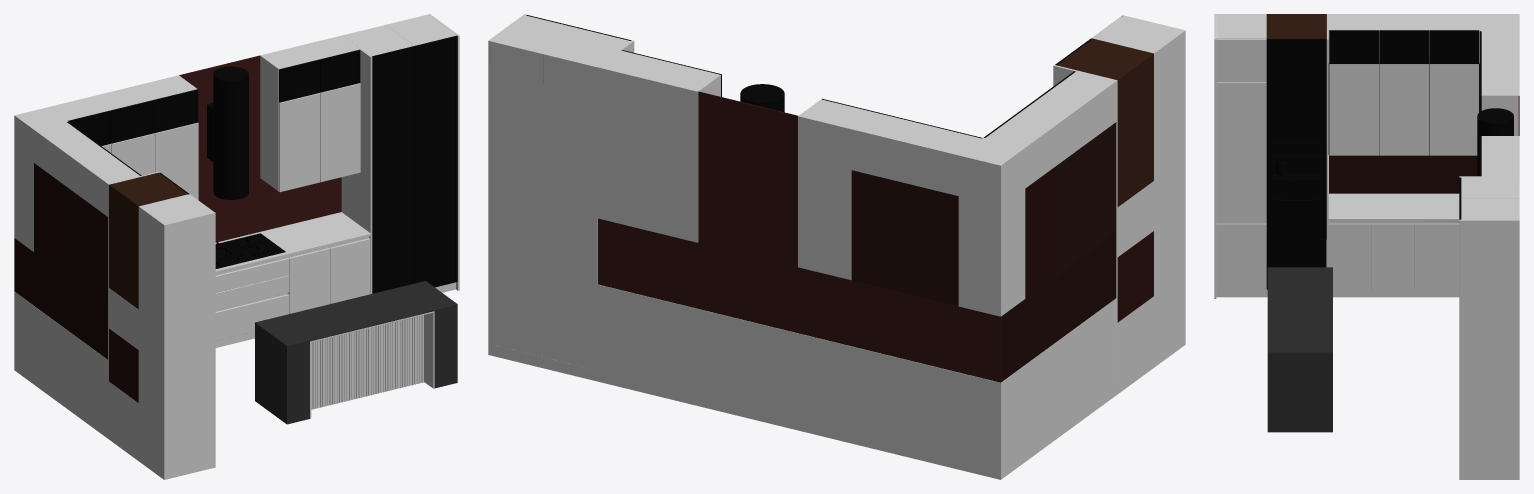
File: kitchen.gltf
3 views of the same model, side by side, from view 1: azimuth 30°, elevation 25°; view 2: azimuth 150°, elevation 25°; view 3: azimuth 270°, elevation 25° (orthographic). The views are drawn at different scales.
Parts seen in each view (by area): view 1: Box034, Box075, Box046, Box049, Box036, Box074, hood, Box037, Box021, Box026, Box095, Box094 (+39 smaller); view 2: Box036, Box048, Box045, Box015, Box013, Box007, Box008, Box010, Box037, Box009, Box019, Box021 (+27 smaller); view 3: Box043, Box075, Box089, Box042, Box037, Box098, Box097, Box096, Box011, Box088, oven door, Box085 (+24 smaller).
Boxes of the visible parts, left/top/right/bottom form: Box034: left=163, top=212, right=215, bottom=479; Box075: left=255, top=281, right=457, bottom=424; Box046: left=414, top=35, right=457, bottom=287; Box049: left=372, top=46, right=414, bottom=293; Box036: left=14, top=55, right=341, bottom=291; Box074: left=311, top=315, right=423, bottom=409; hood: left=207, top=66, right=248, bottom=199; Box037: left=15, top=238, right=107, bottom=359; Box021: left=109, top=172, right=187, bottom=309; Box026: left=58, top=181, right=107, bottom=305; Box095: left=320, top=83, right=360, bottom=182; Box094: left=279, top=93, right=319, bottom=192; Box036: left=598, top=91, right=1001, bottom=382; Box048: left=543, top=28, right=630, bottom=369; Box045: left=490, top=15, right=577, bottom=356; Box015: left=851, top=170, right=958, bottom=306; Box013: left=597, top=108, right=698, bottom=242; Box007: left=597, top=288, right=697, bottom=394; Box008: left=698, top=312, right=797, bottom=419; Box010: left=939, top=361, right=1035, bottom=468; Box037: left=1001, top=232, right=1116, bottom=381; Box009: left=848, top=349, right=939, bottom=453; Box019: left=958, top=189, right=1025, bottom=316; Box021: left=1057, top=38, right=1153, bottom=206; Box043: left=1459, top=219, right=1519, bottom=479; Box075: left=1267, top=267, right=1332, bottom=432; Box089: left=1216, top=82, right=1266, bottom=221; Box042: left=1266, top=39, right=1326, bottom=144; Box037: left=1329, top=155, right=1477, bottom=193; Box098: left=1329, top=64, right=1378, bottom=155; Box097: left=1379, top=64, right=1428, bottom=155; Box096: left=1429, top=64, right=1478, bottom=155; Box011: left=1328, top=193, right=1459, bottom=221; Box088: left=1216, top=223, right=1266, bottom=289; oven door: left=1266, top=185, right=1326, bottom=239; Box085: left=1414, top=223, right=1458, bottom=289.
Size of the model in its own units: 4.87 by 2.85 by 3.04.
